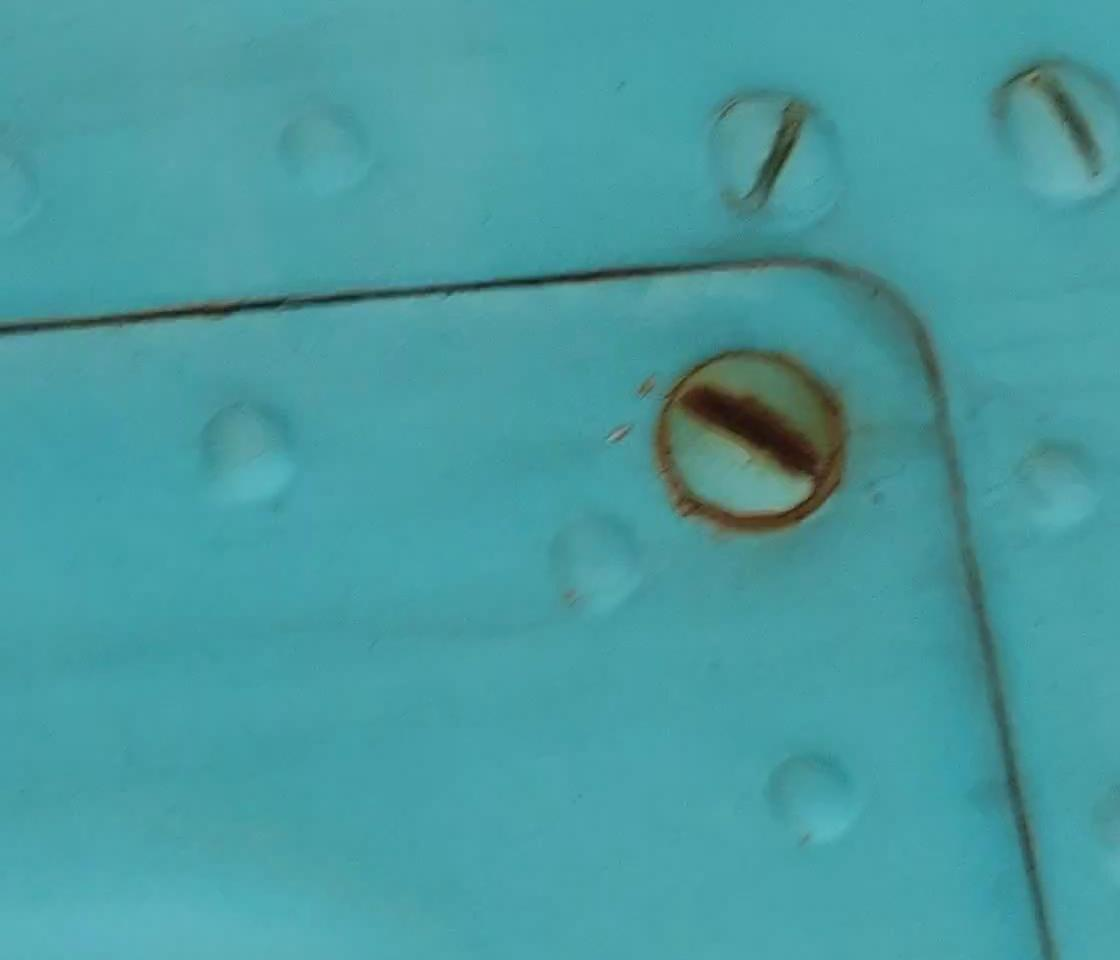rivet_damage: (646, 342, 855, 540)
